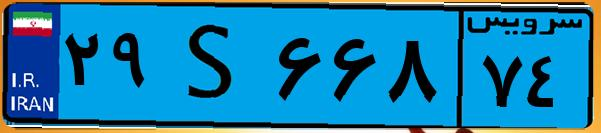2: (57, 26, 110, 100)
4: (525, 38, 570, 115)
6: (270, 28, 330, 110), (330, 28, 385, 110)
7: (475, 38, 525, 113)
8: (385, 28, 445, 110)
9: (110, 28, 158, 98)
S: (158, 12, 270, 120)
